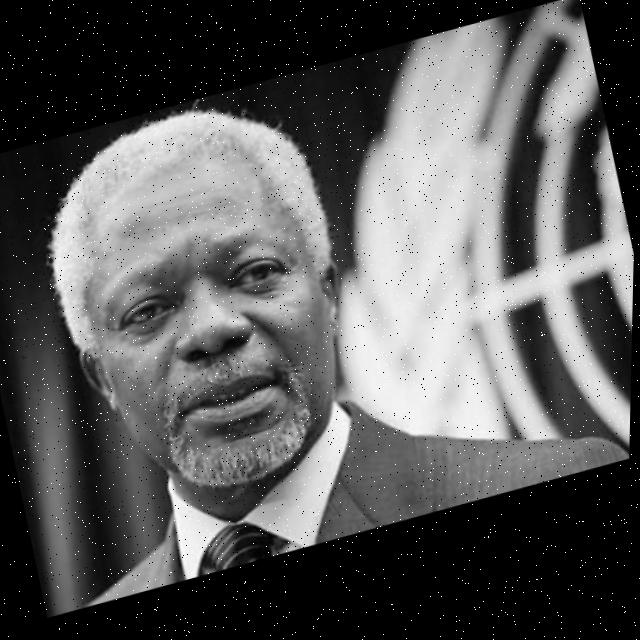face: (35, 115, 391, 527)
